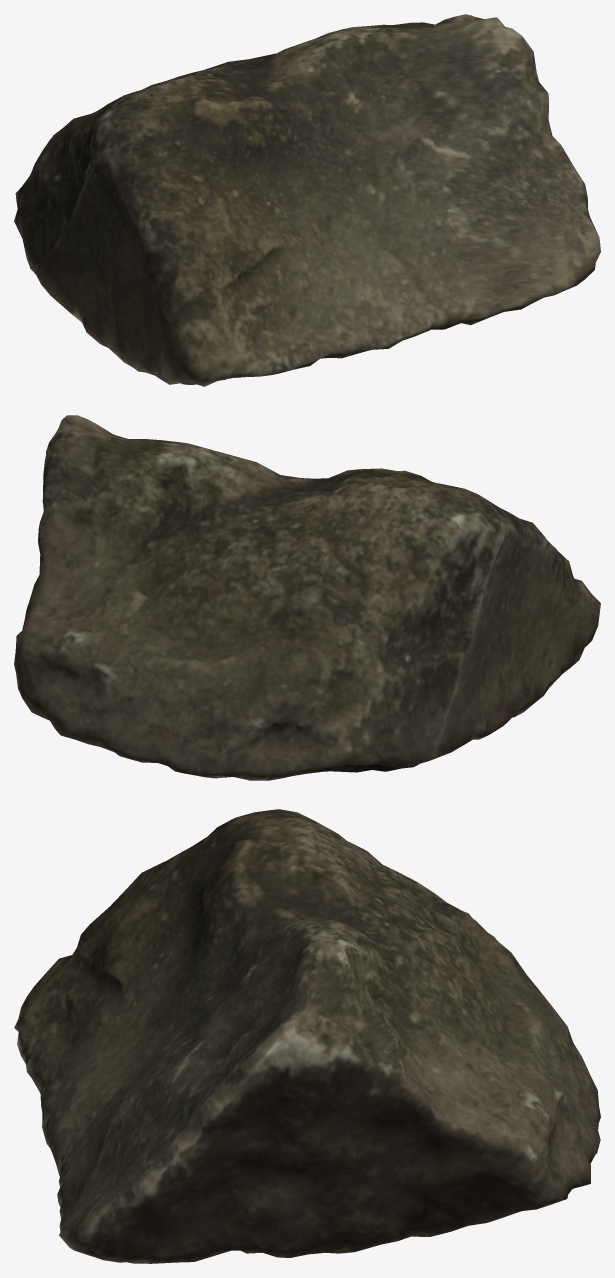
The model's file is B_Rock_03.fbx.
The picture shows the model from 3 angles, top to bottom: view 1: azimuth 30°, elevation 25°; view 2: azimuth 150°, elevation 25°; view 3: azimuth 270°, elevation 25°; orthographic projection. The views are drawn at different scales.
Visible parts, largest first — view 1: B_Rock_03_LOD0; view 2: B_Rock_03_LOD0; view 3: B_Rock_03_LOD0.
Part boxes in pixels (x1,y1,x2,y2): B_Rock_03_LOD0: (14, 14, 600, 386); B_Rock_03_LOD0: (14, 415, 600, 780); B_Rock_03_LOD0: (14, 809, 600, 1263).
Size of what is drawn, in the model's own units: 3 by 1.56 by 2.96.
